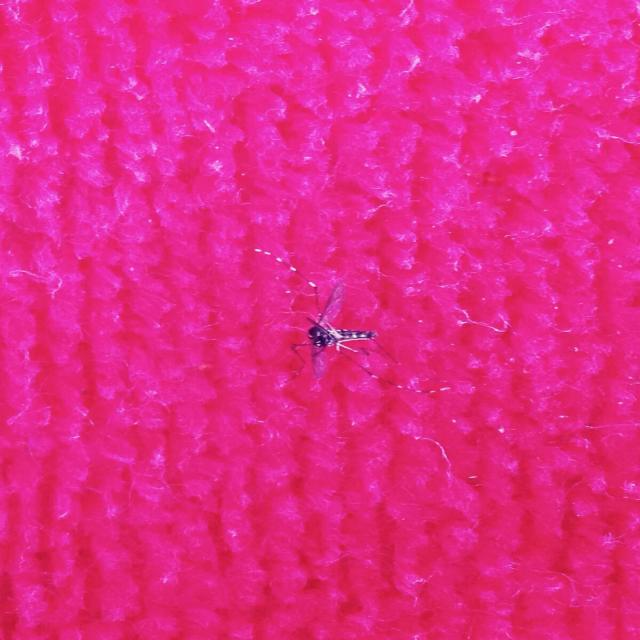albopictus: (242, 242, 464, 401)
